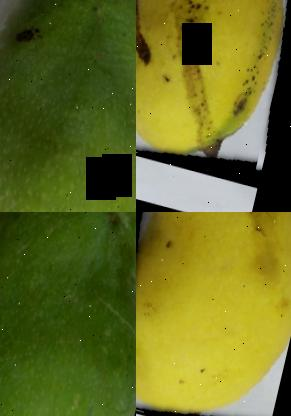Ripe: (136, 212, 291, 416), (136, 0, 291, 184)
Unripe: (0, 0, 136, 212), (0, 212, 136, 416)
